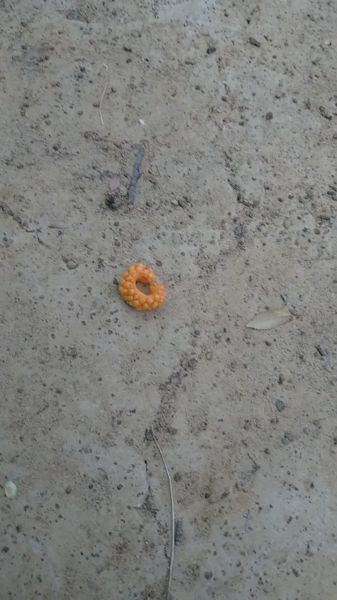eggs: (120, 254, 165, 313)
